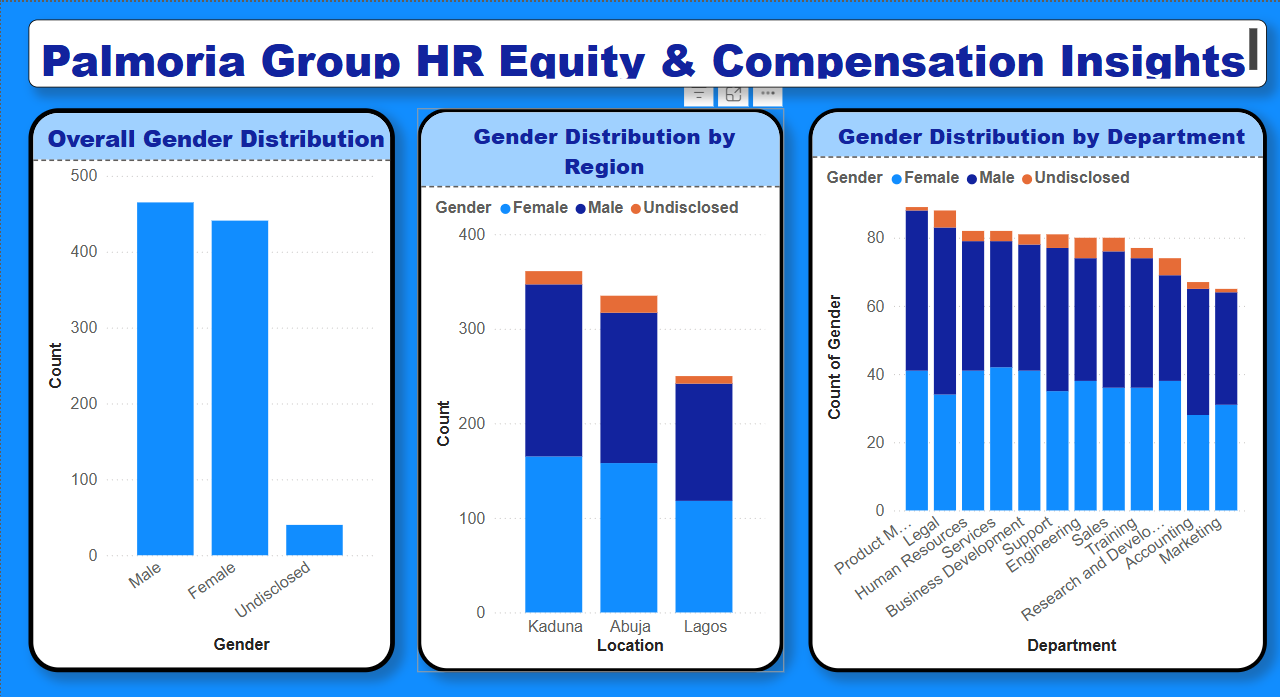

This screenshot's page, from the dashboard's own definition file:
{"tool":"powerbi","page":{"name":"Page 2","canvas":[1280,720],"ordinal":1},"visuals":[{"type":"columnChart","title":"Overall Gender Distribution","fields":{"Category":["Palmoria Group emp-data.Gender"],"Y":["CountNonNull(Palmoria Group emp-data.Gender)"]},"box":[28,106,366,564],"z":0},{"type":"columnChart","title":"Gender Distribution by Region","fields":{"Series":["Palmoria Group emp-data.Gender"],"Category":["Palmoria Group emp-data.Location"],"Y":["CountNonNull(Palmoria Group emp-data.Gender)"]},"box":[416,106,366,564],"z":1},{"type":"columnChart","title":"Gender Distribution by Department","fields":{"Category":["Palmoria Group emp-data.Department"],"Series":["Palmoria Group emp-data.Gender"],"Y":["CountNonNull(Palmoria Group emp-data.Gender)"]},"box":[808,106,458,564],"z":2},{"type":"textbox","box":[28,18,1238,68],"z":3}]}

Visuals, with their boxes in screenshot pixels (x1, y1, x2, y2):
"Overall Gender Distribution" columnChart: (31,105,393,663)
"Gender Distribution by Region" columnChart: (415,105,777,663)
"Gender Distribution by Department" columnChart: (803,105,1256,663)
textbox: (31,18,1256,85)
